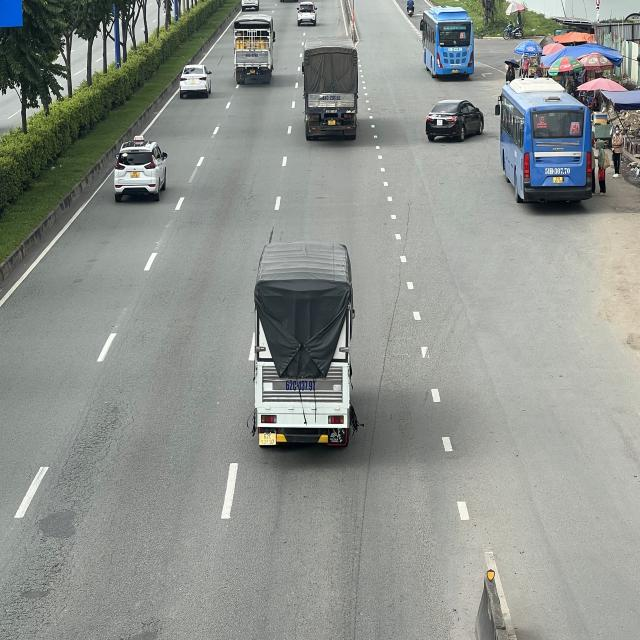car: (113, 134, 170, 201), (424, 98, 486, 143), (179, 64, 211, 98), (295, 2, 318, 28)
coach: (495, 76, 596, 205), (420, 5, 474, 81)
truck: (252, 244, 352, 446), (302, 38, 358, 143), (233, 12, 276, 82)
